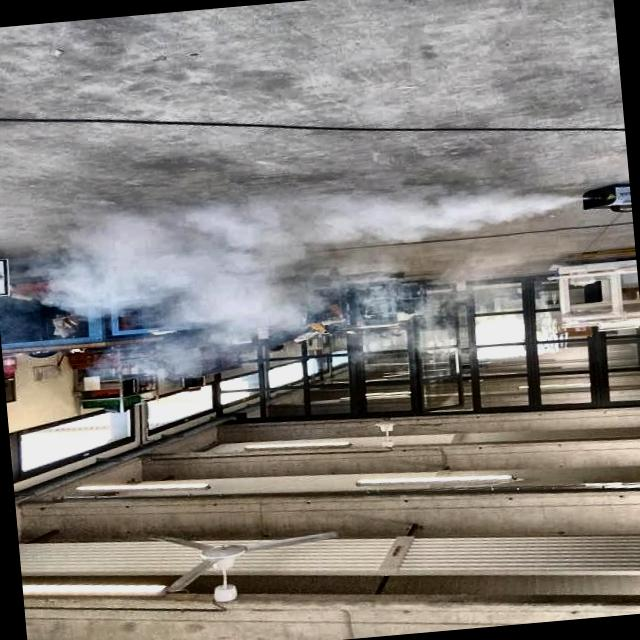smoke: (34, 140, 604, 394)
